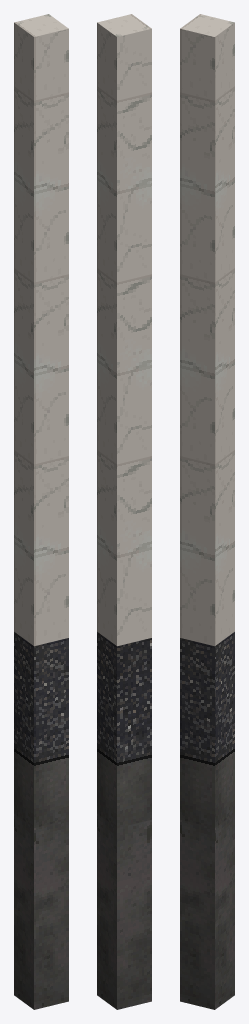
Rendered from track_post.glb.
3 renders of one model, left to right at view 1: azimuth 30°, elevation 25°; view 2: azimuth 210°, elevation 25°; view 3: azimuth 330°, elevation 25°, orthographic.
Parts seen in each view (by area): view 1: track_post; view 2: track_post; view 3: track_post.
Part boxes in pixels (bbox=[...]): track_post: bbox=[14, 14, 68, 1009]; track_post: bbox=[97, 14, 151, 1009]; track_post: bbox=[180, 14, 234, 1009].
Size of the model in its own units: 0.2 by 5.35 by 0.2.
1 material, 1 textured.
